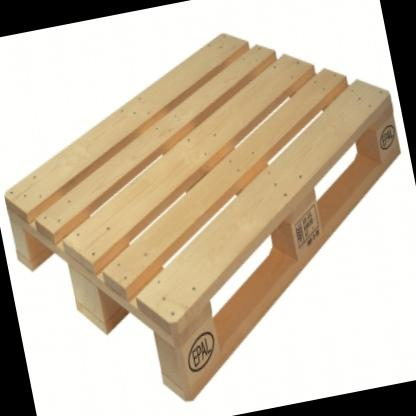BoxFace: (4, 28, 402, 405)
